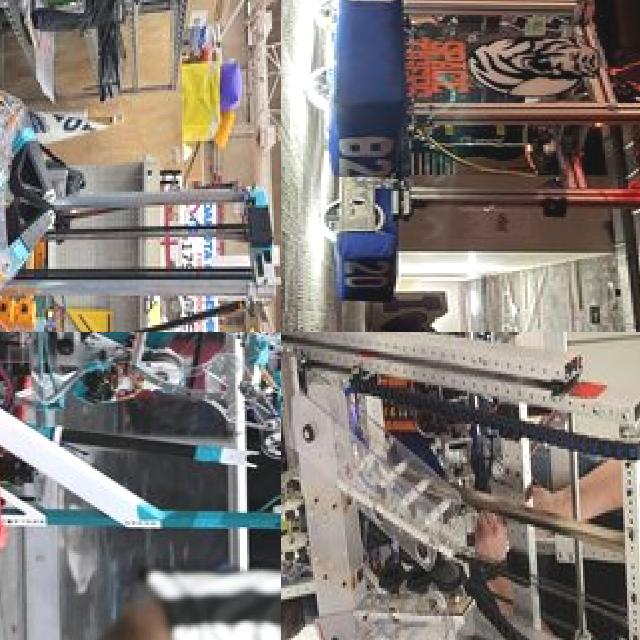FRC-Robots: (281, 332, 640, 640), (318, 0, 640, 303), (0, 19, 278, 332), (0, 332, 281, 571)
